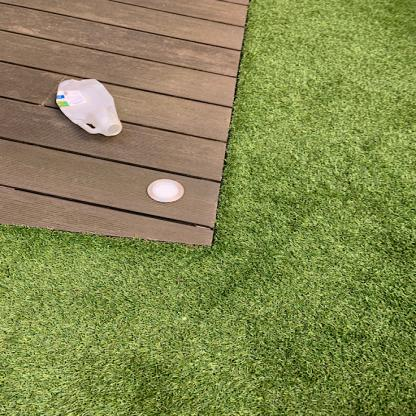trash: (53, 76, 125, 140)
